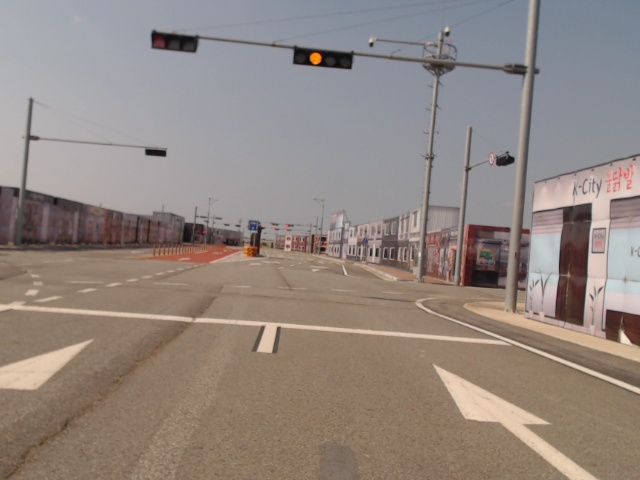orange_4: (293, 45, 354, 71)
